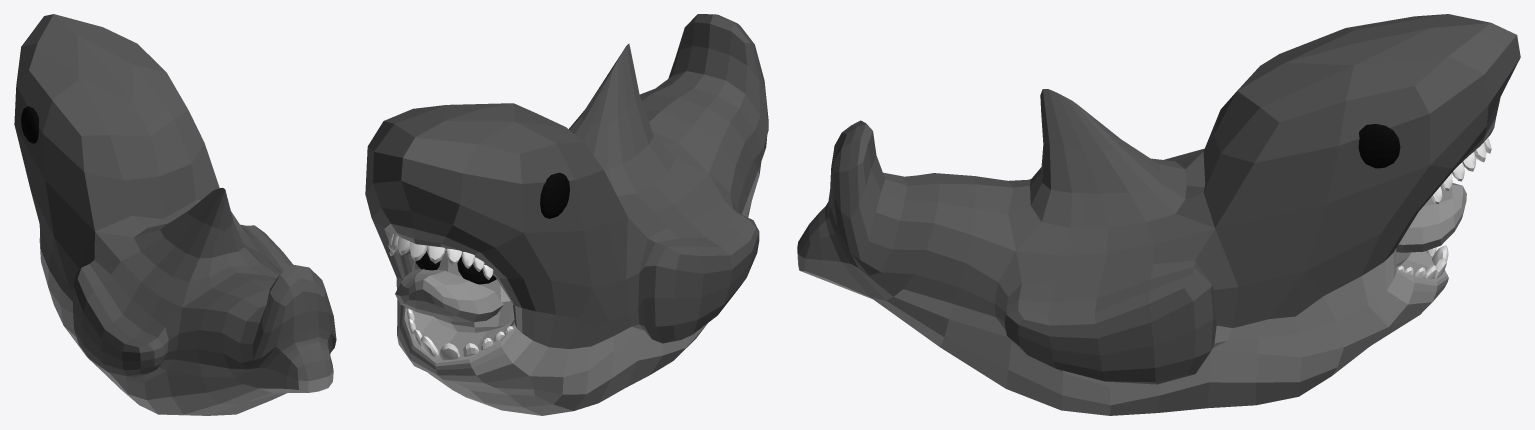
Rendered from SharknadoModel.fbx.
3 views of the same model, side by side, from view 1: azimuth 30°, elevation 25°; view 2: azimuth 150°, elevation 25°; view 3: azimuth 270°, elevation 25° (orthographic). The views are drawn at different scales.
Parts seen in each view (by area): view 1: SharknadoModel; view 2: SharknadoModel; view 3: SharknadoModel.
Part boxes in pixels (x1,y1,x2,y2): SharknadoModel: [14, 14, 336, 415]; SharknadoModel: [365, 14, 768, 415]; SharknadoModel: [797, 14, 1520, 415].
Size of the model in its own units: 16.85 by 21.7 by 39.18.
